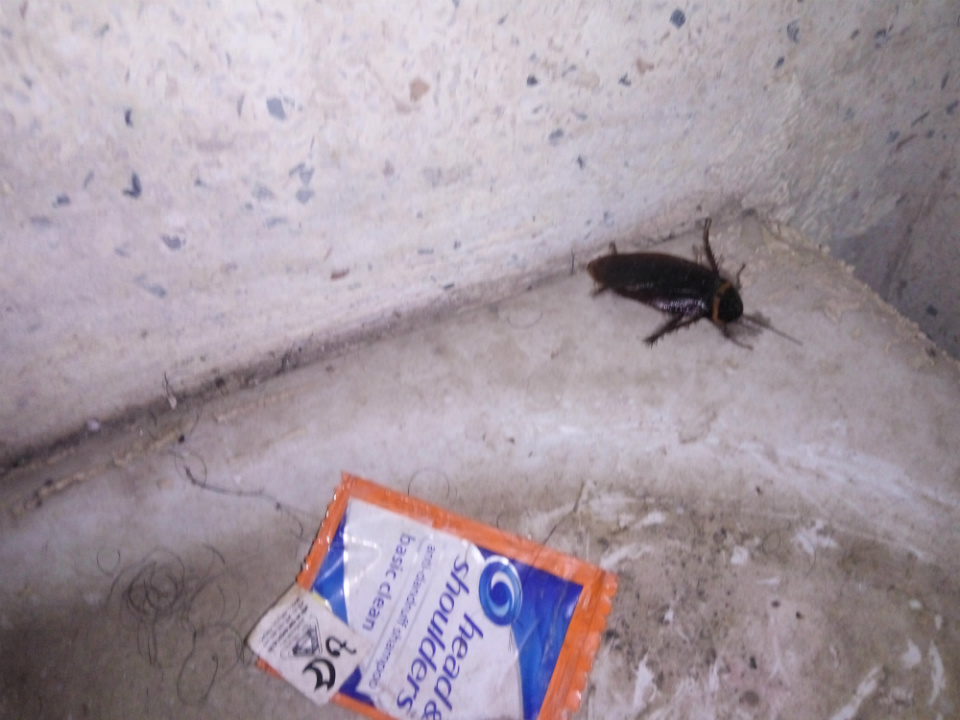cockroach: (488, 205, 801, 368)
